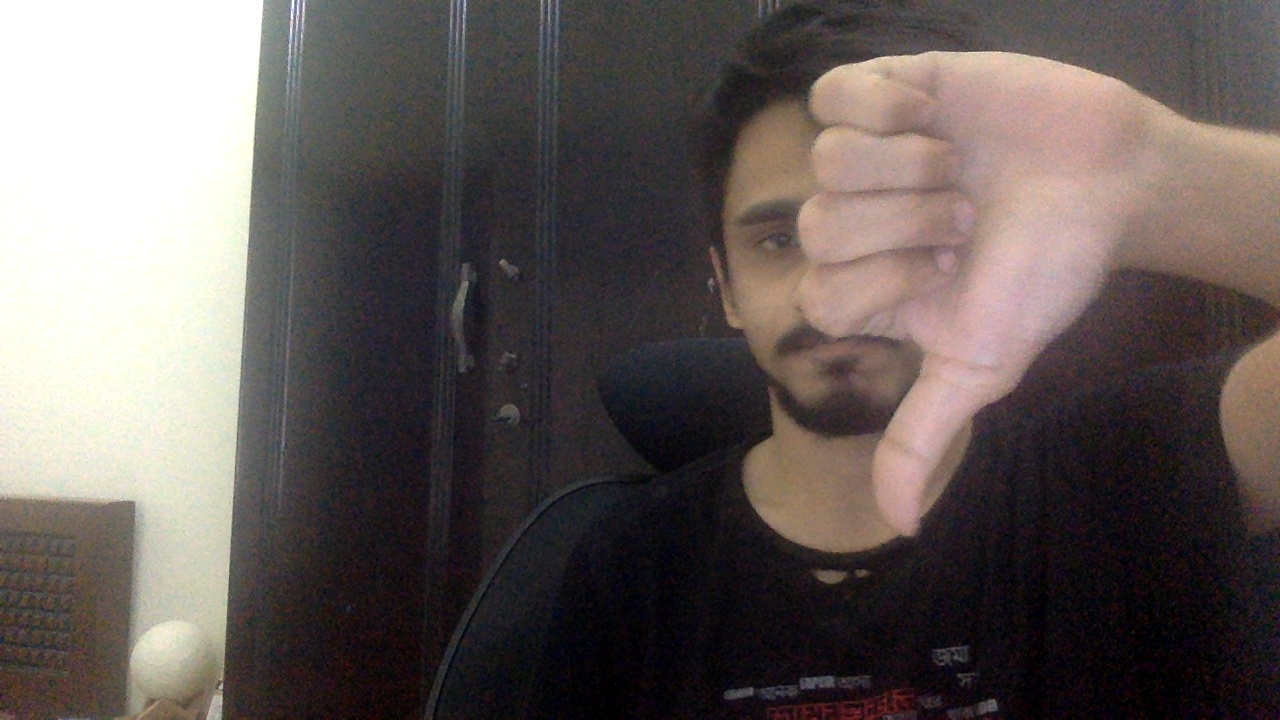bad: (802, 49, 1129, 537)
